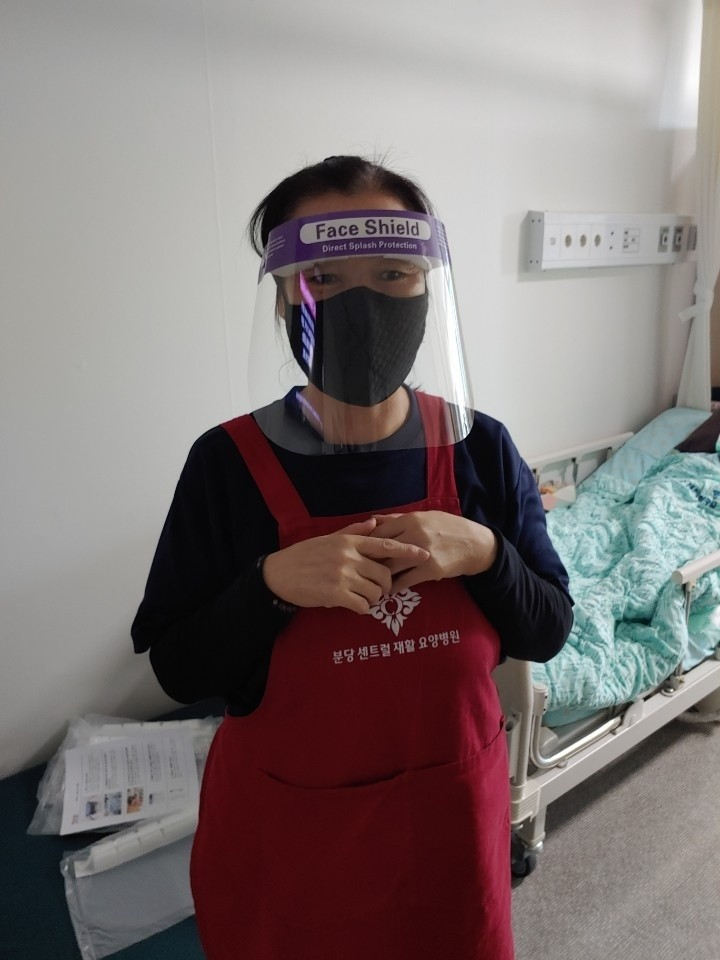face_with_mask: (251, 154, 472, 417)
